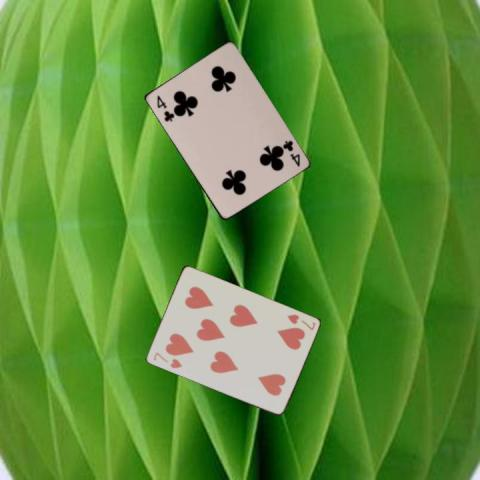4c: (154, 92, 176, 123), (280, 137, 302, 168)
7h: (150, 349, 183, 370), (284, 311, 317, 332)
